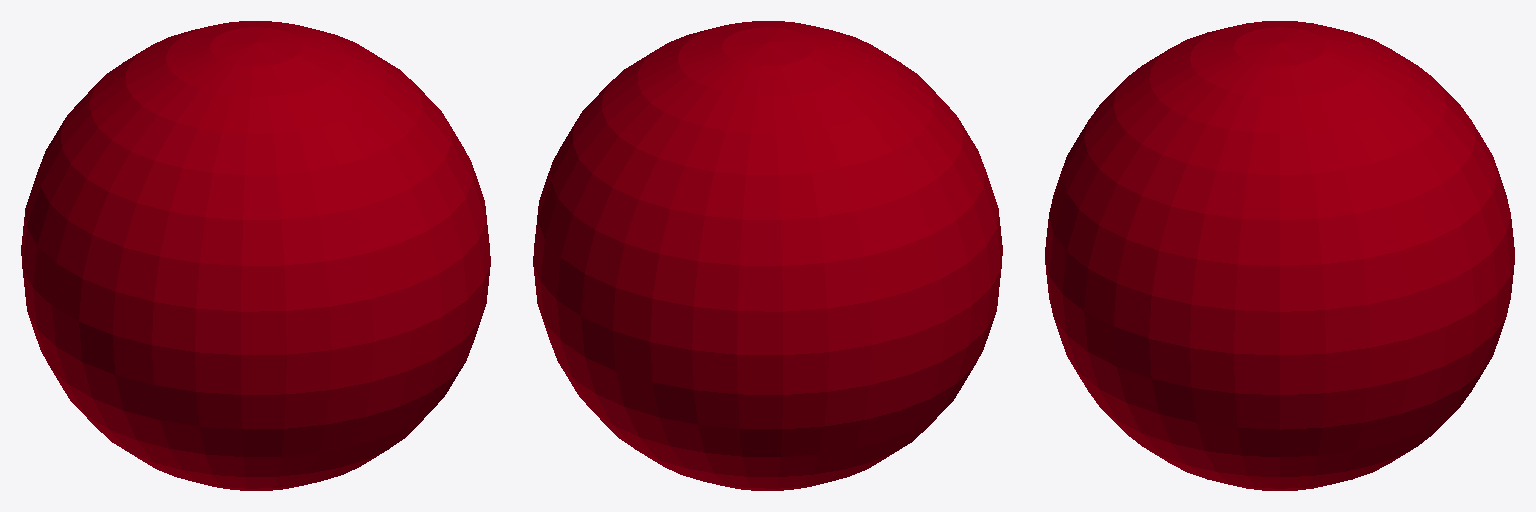
File: smallSphere.obj
3 views of the same model, side by side, from view 1: azimuth 30°, elevation 25°; view 2: azimuth 150°, elevation 25°; view 3: azimuth 270°, elevation 25° (orthographic).
Parts seen in each view (by area): view 1: Sphere; view 2: Sphere; view 3: Sphere.
Boxes of the visible parts, <box> form: Sphere: <box>21,21,490,490</box>; Sphere: <box>533,21,1002,490</box>; Sphere: <box>1045,21,1514,490</box>.
Size of the model in its own units: 3 by 3 by 3.